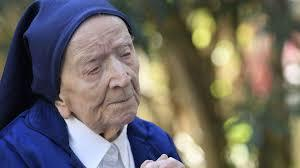Persons: (25, 1, 156, 135)
